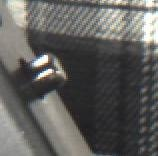screw: (18, 49, 68, 102)
